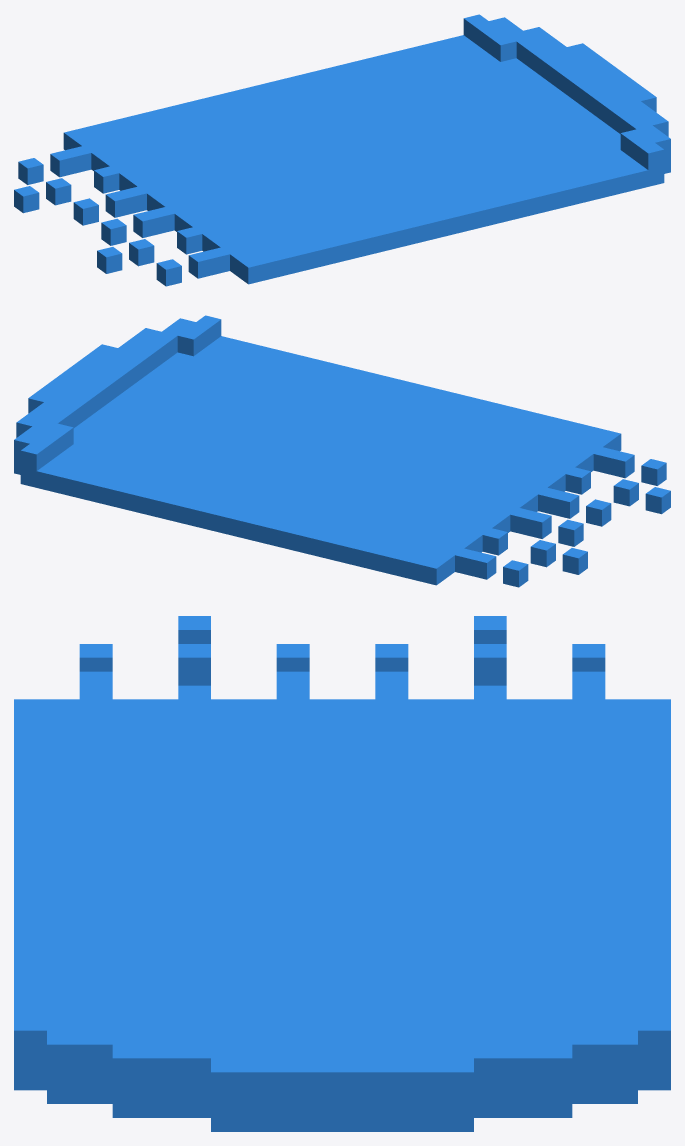
3 renders of one model, top to bottom at view 1: azimuth 30°, elevation 25°; view 2: azimuth 150°, elevation 25°; view 3: azimuth 270°, elevation 25°, orthographic. The views are drawn at different scales.
Parts seen in each view (by area): view 1: 35.1; view 2: 35.1; view 3: 35.1.
Boxes of the visible parts, left/top/right/bottom form: 35.1: left=14, top=14, right=670, bottom=286; 35.1: left=14, top=315, right=670, bottom=587; 35.1: left=14, top=616, right=670, bottom=1131.
Bounding box in the file's own units: 350 × 20 × 200.
Materials: 1 (1 with a texture image).
